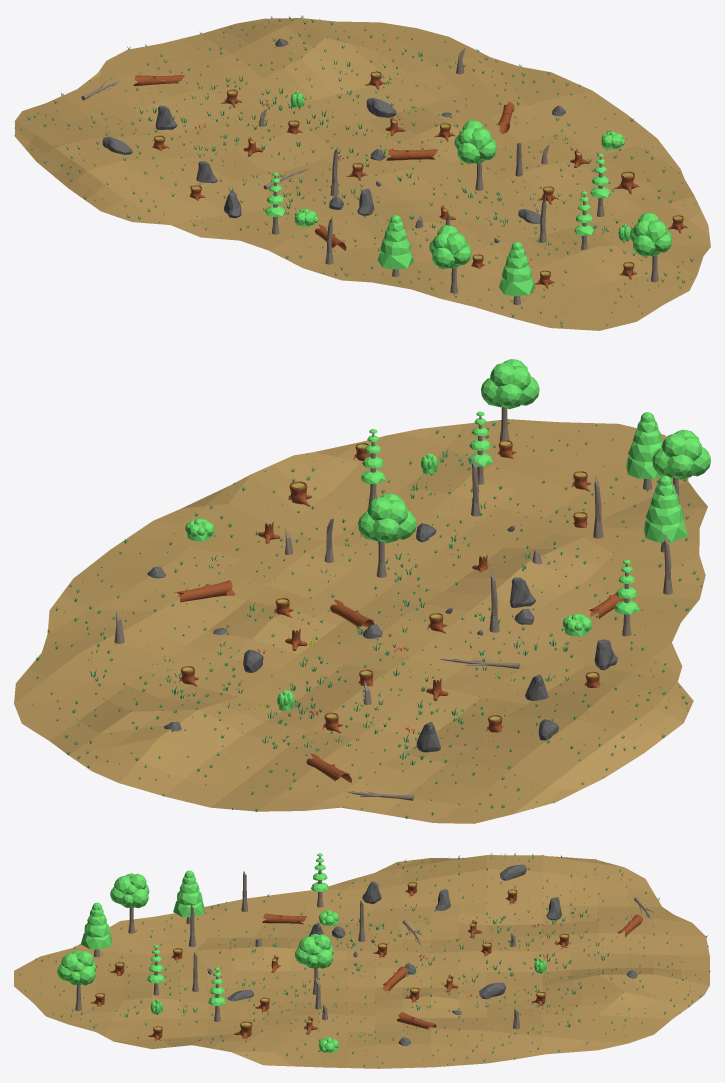
Rendered from deforestation.glb.
3 renders of one model, top to bottom at view 1: azimuth 30°, elevation 25°; view 2: azimuth 150°, elevation 25°; view 3: azimuth 270°, elevation 25°, orthographic. The views are drawn at different scales.
Visible parts, largest first — view 1: Plane, Sphere.012, Sphere.017, Sphere.001, Sphere.005; view 2: Plane, Sphere.012, Sphere.017, Sphere.005, Sphere.001; view 3: Plane, Sphere.012, Sphere.017, Sphere.001, Sphere.005.
Part boxes in pixels (box(x1,y1,x2,y2)): Plane: box(14, 18, 710, 330); Sphere.012: box(14, 15, 696, 327); Sphere.017: box(429, 225, 471, 293); Sphere.001: box(499, 241, 535, 305); Sphere.005: box(377, 215, 414, 276); Plane: box(14, 419, 707, 823); Sphere.012: box(31, 359, 701, 818); Sphere.017: box(652, 429, 710, 504); Sphere.005: box(644, 475, 687, 552); Sphere.001: box(626, 412, 662, 489); Plane: box(14, 855, 709, 1068); Sphere.012: box(19, 853, 710, 1066); Sphere.017: box(110, 873, 149, 933); Sphere.001: box(81, 902, 112, 957); Sphere.005: box(173, 870, 204, 924).
Bounding box in the file's own units: 194 × 29.63 × 273.
